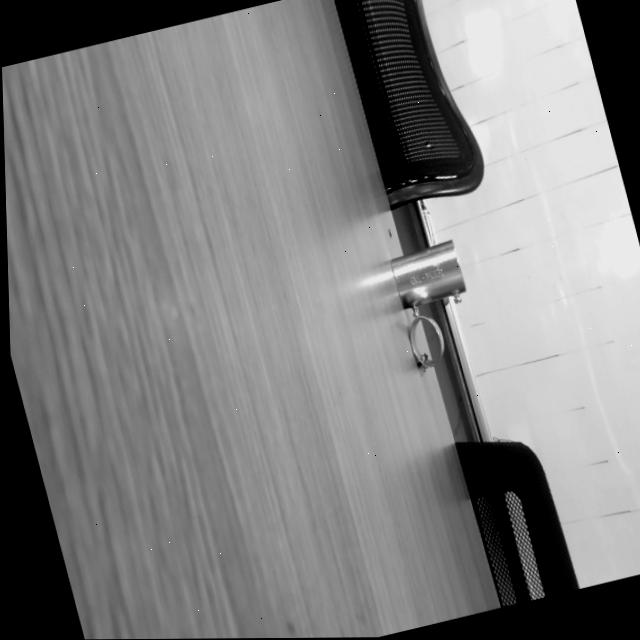Co_Lon: (388, 240, 470, 319)
Co_Nho: (401, 308, 451, 372)
